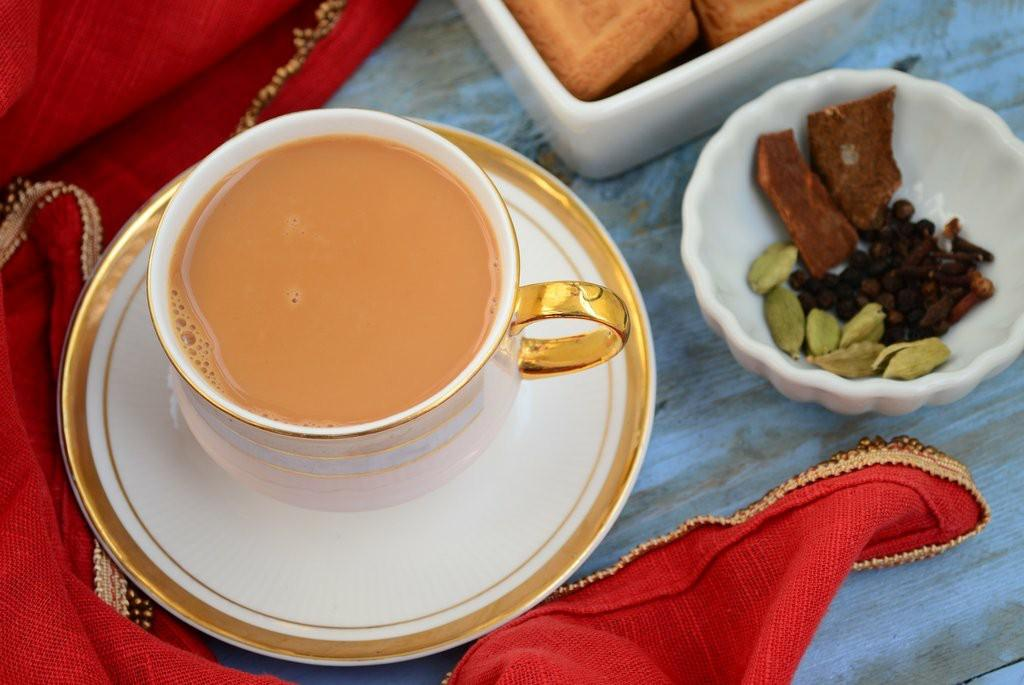Chai: (165, 134, 500, 428)
